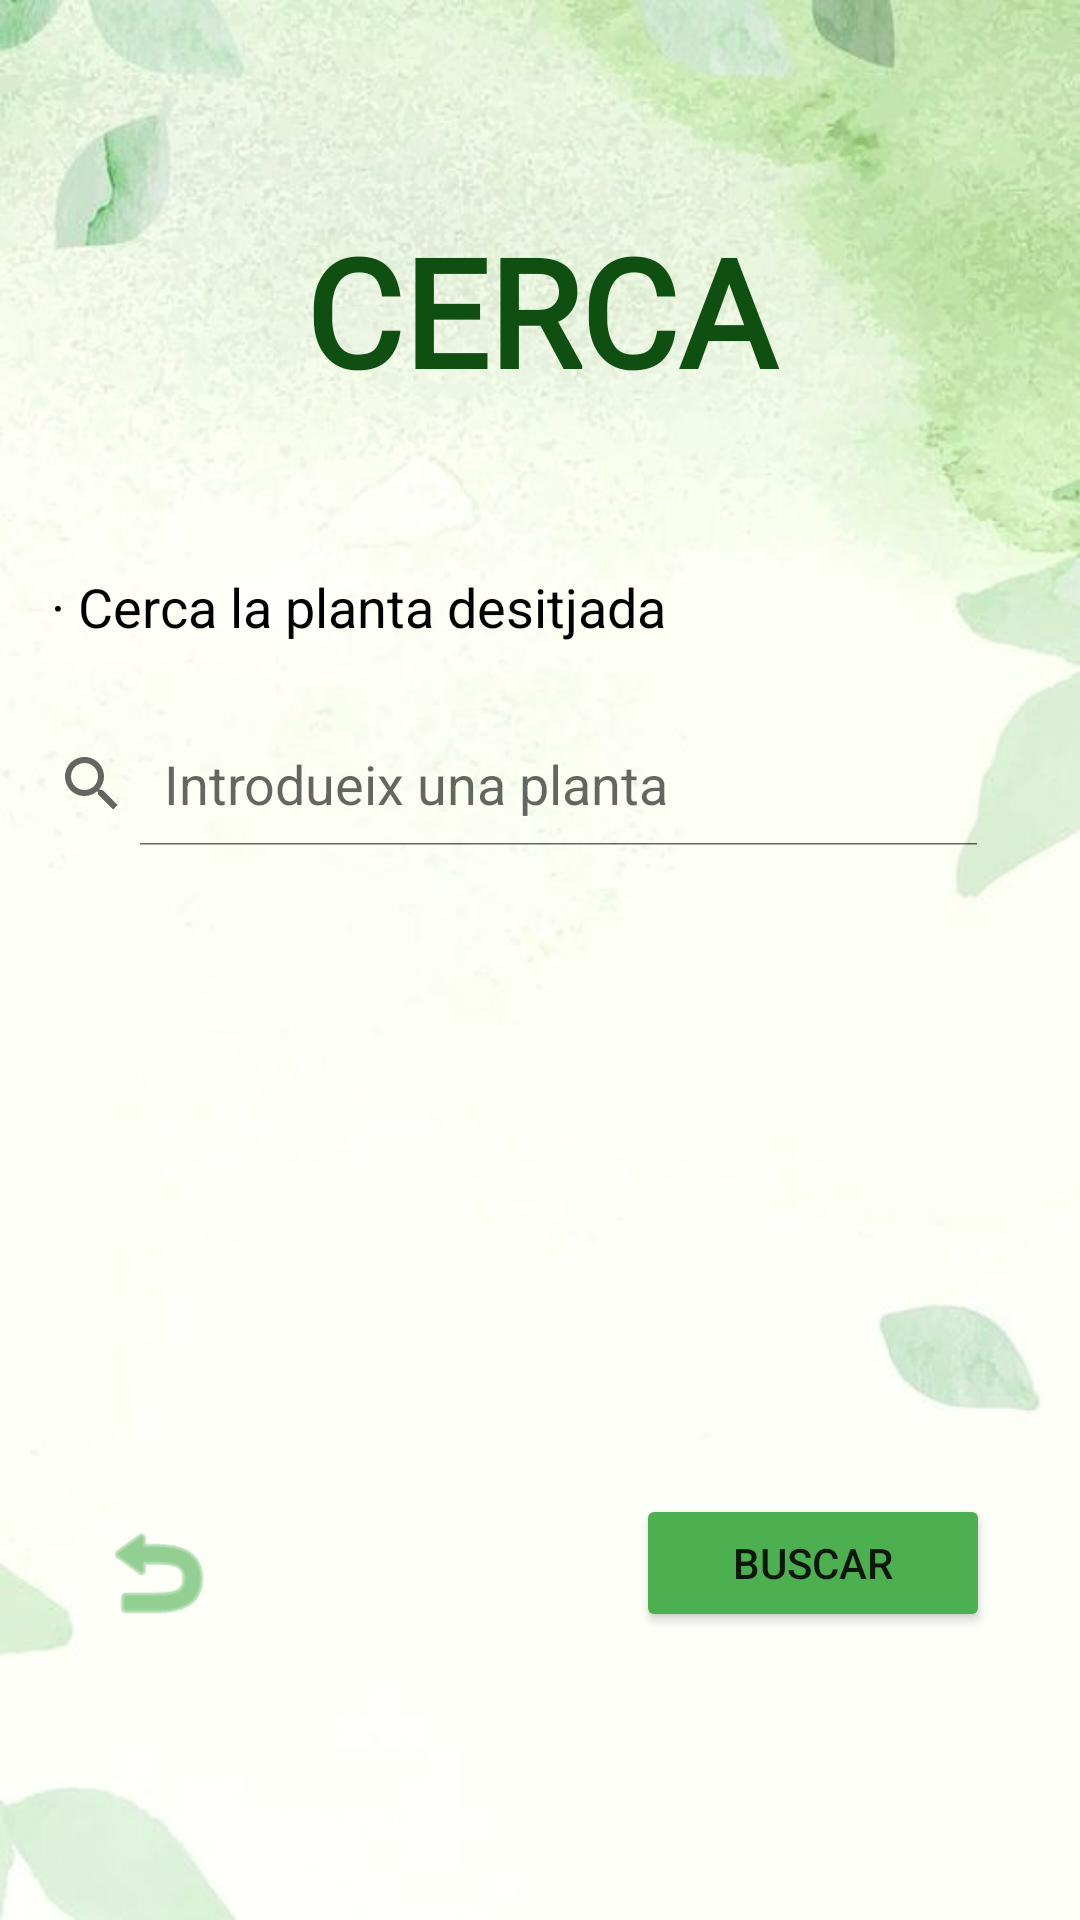

Icons on this 1080×1920 Android screen, each with its box as BBox(x1, y1, x2, y2):
revert: BBox(115, 1533, 203, 1613)
